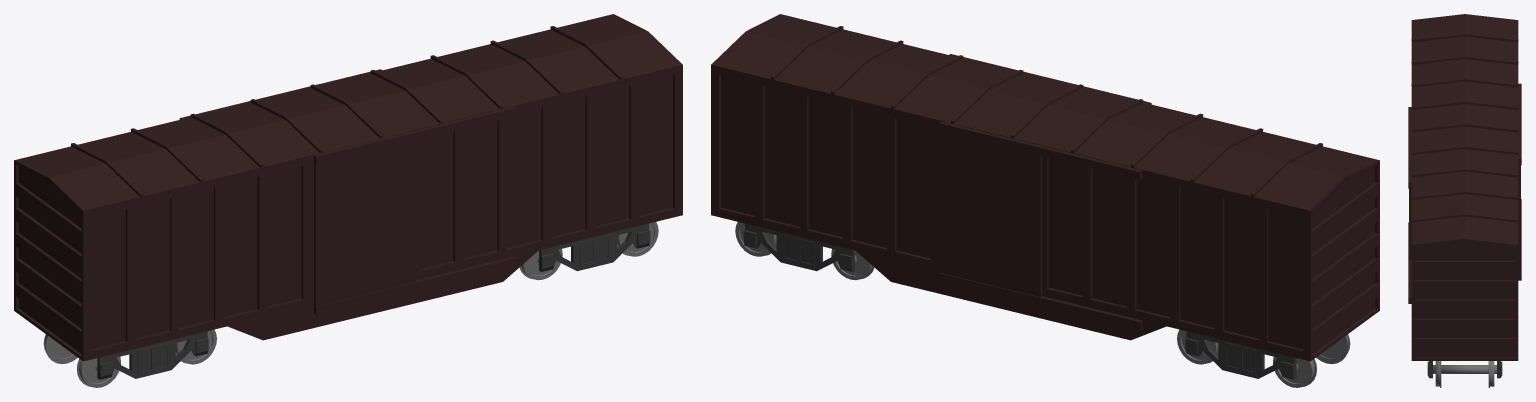
File: box_car.obj
3 views of the same model, side by side, from view 1: azimuth 30°, elevation 25°; view 2: azimuth 150°, elevation 25°; view 3: azimuth 270°, elevation 25° (orthographic). The views are drawn at different scales.
Visible parts, largest first — view 1: group_3.001_ID452.001, group_3_ID446.001, group_14_ID548, group_3.003_ID464, group_15_ID536, group_15.001_ID542, BOGEY_REAR.015_ID306, BOGEY_FRONT.003_ID25; view 2: group_3.002_ID458, group_3_ID446.001, group_1_ID439.002, group_3.003_ID464, group_2_ID425.001, group_2.001_ID433.002, BOGEY_REAR.015_ID306, BOGEY_FRONT.003_ID25; view 3: group_3_ID446.001, BOGEY_REAR.001_ID222, group_2_ID425.001, group_1_ID439.002, group_15_ID536, group_14_ID548, group_15.001_ID542, group_20_ID577, group_8_ID493, group_24_ID605, group_17_ID556, group_12_ID521 (+16 smaller).
Boxes of the visible parts, <box> form: group_3.001_ID452.001: <box>91,75,674,350</box>; group_3_ID446.001: <box>14,14,682,361</box>; group_14_ID548: <box>314,140,416,306</box>; group_3.003_ID464: <box>16,164,81,356</box>; group_15_ID536: <box>314,106,517,164</box>; group_15.001_ID542: <box>314,256,517,314</box>; BOGEY_REAR.015_ID306: <box>539,223,650,271</box>; BOGEY_FRONT.003_ID25: <box>97,331,208,379</box>; group_3.002_ID458: <box>719,75,1302,350</box>; group_3_ID446.001: <box>711,14,1379,361</box>; group_1_ID439.002: <box>940,131,1042,297</box>; group_3.003_ID464: <box>1312,164,1377,356</box>; group_2_ID425.001: <box>939,121,1142,180</box>; group_2.001_ID433.002: <box>939,273,1142,330</box>; BOGEY_REAR.015_ID306: <box>743,223,854,271</box>; BOGEY_FRONT.003_ID25: <box>1185,331,1296,379</box>; group_3_ID446.001: <box>1411,14,1518,360</box>; BOGEY_REAR.001_ID222: <box>1433,365,1496,373</box>; group_2_ID425.001: <box>1518,83,1521,165</box>; group_1_ID439.002: <box>1518,165,1520,274</box>; group_15_ID536: <box>1408,107,1411,188</box>; group_14_ID548: <box>1409,188,1411,259</box>; group_15.001_ID542: <box>1408,222,1411,303</box>; group_20_ID577: <box>1465,78,1518,87</box>; group_8_ID493: <box>1411,78,1464,87</box>; group_24_ID605: <box>1465,123,1518,132</box>; group_17_ID556: <box>1465,213,1518,222</box>; group_12_ID521: <box>1411,123,1464,132</box>.
Size of the model in its own units: 15.24 by 5.06 by 3.25.
